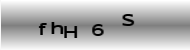6: (90, 23, 105, 37)
H: (62, 25, 78, 39)
S: (120, 13, 136, 27)
f: (38, 22, 48, 37)
h: (49, 21, 64, 35)
